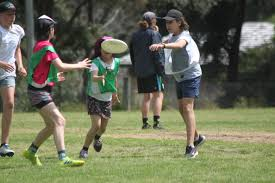disc: (101, 39, 129, 55)
